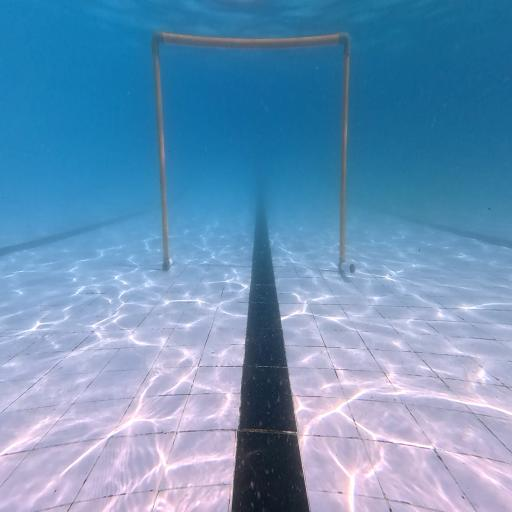gate: (152, 32, 355, 274)
